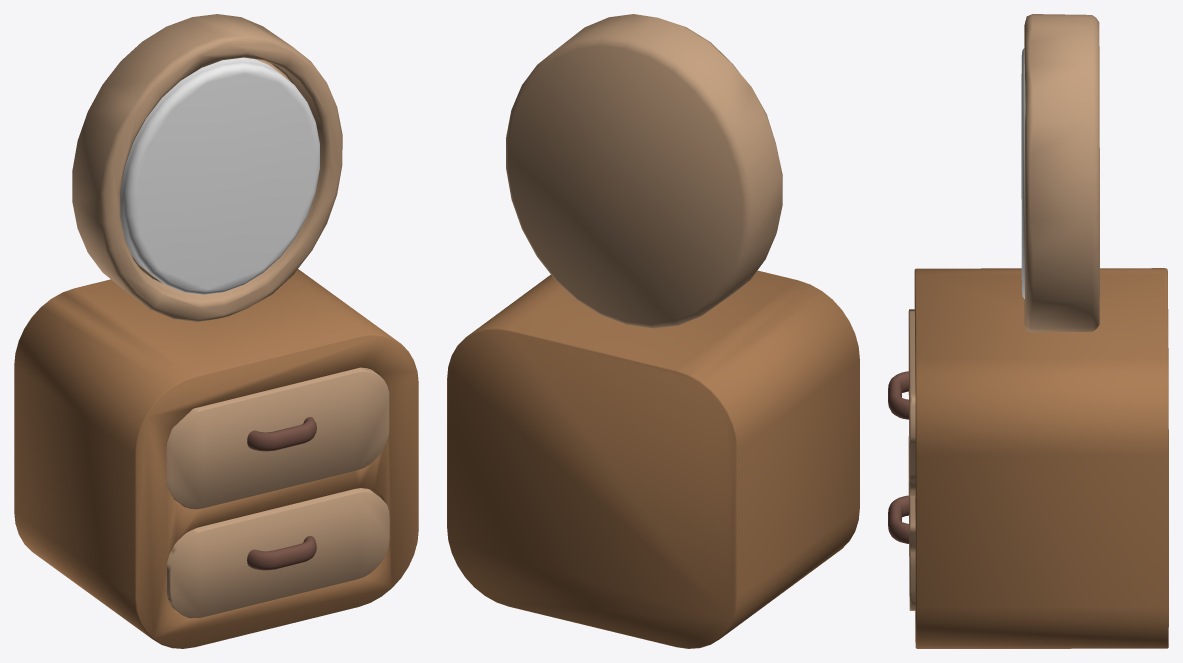
Rendered from Vanity_mirror.glb.
3 views of the same model, side by side, from view 1: azimuth 30°, elevation 25°; view 2: azimuth 150°, elevation 25°; view 3: azimuth 270°, elevation 25° (orthographic). The views are drawn at different scales.
Visible parts, largest first — view 1: 3d66-Editable_Poly-22612932-155, 3d66-Editable_Poly-22612932-156, 3d66-Editable_Poly-22612932-160, 3d66-Editable_Poly-22612932-158; view 2: 3d66-Editable_Poly-22612932-155, 3d66-Editable_Poly-22612932-156; view 3: 3d66-Editable_Poly-22612932-155, 3d66-Editable_Poly-22612932-156, 3d66-Editable_Poly-22612932-158, 3d66-Editable_Poly-22612932-160.
Part boxes in pixels (x1=…): 3d66-Editable_Poly-22612932-155: x1=14, y1=269, x2=418, y2=648; 3d66-Editable_Poly-22612932-156: x1=72, y1=14, x2=389, y2=618; 3d66-Editable_Poly-22612932-160: x1=120, y1=57, x2=319, y2=294; 3d66-Editable_Poly-22612932-158: x1=247, y1=417, x2=316, y2=570; 3d66-Editable_Poly-22612932-155: x1=447, y1=270, x2=859, y2=648; 3d66-Editable_Poly-22612932-156: x1=506, y1=14, x2=782, y2=328; 3d66-Editable_Poly-22612932-155: x1=914, y1=268, x2=1168, y2=648; 3d66-Editable_Poly-22612932-156: x1=908, y1=14, x2=1099, y2=610; 3d66-Editable_Poly-22612932-158: x1=888, y1=371, x2=909, y2=543; 3d66-Editable_Poly-22612932-160: x1=1021, y1=48, x2=1025, y2=298.
Size of the model in its own units: 0.4818 by 0.8871 by 0.3933.
